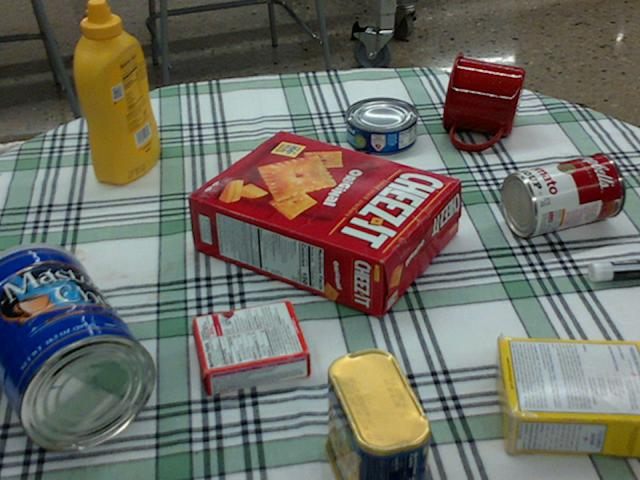cracker_box: (187, 128, 459, 317)
gelatin_box: (190, 301, 311, 392)
large_marker: (588, 259, 639, 279)
master_chef_can: (0, 243, 155, 451)
mug: (442, 51, 524, 149)
mustard_bottle: (74, 0, 159, 184)
potted_meat_can: (323, 346, 430, 479)
sugar_box: (494, 340, 639, 459)
tomato_soup_can: (501, 152, 623, 235)
tuna_fish_can: (345, 97, 417, 154)
